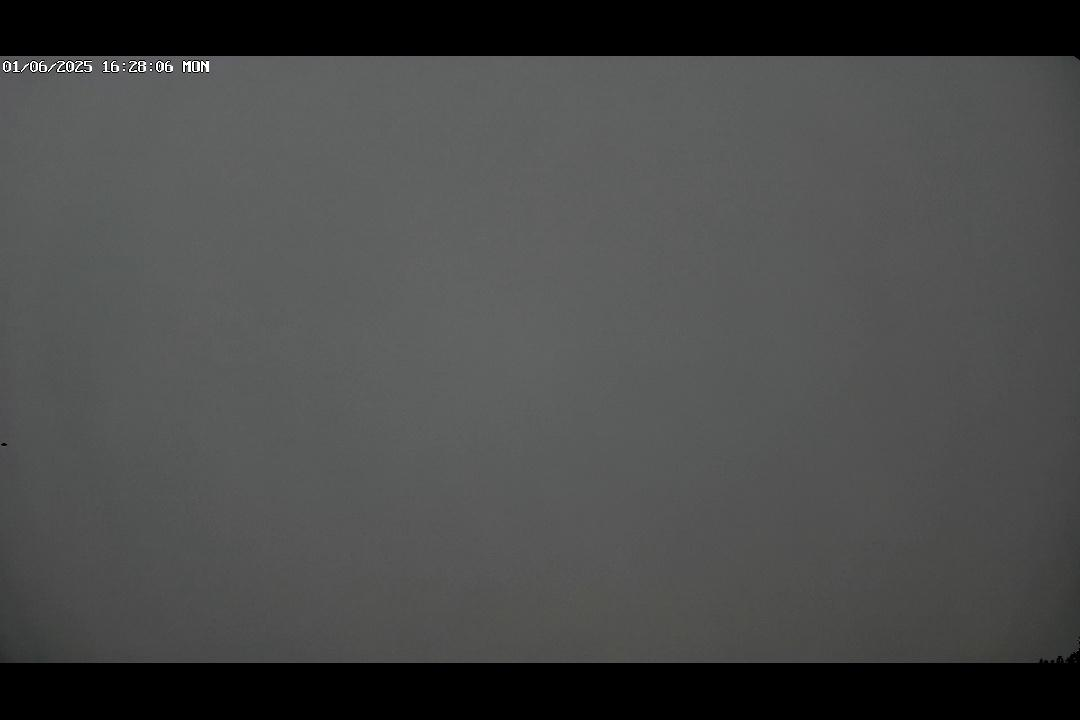WildLife: (0, 435, 13, 452)
